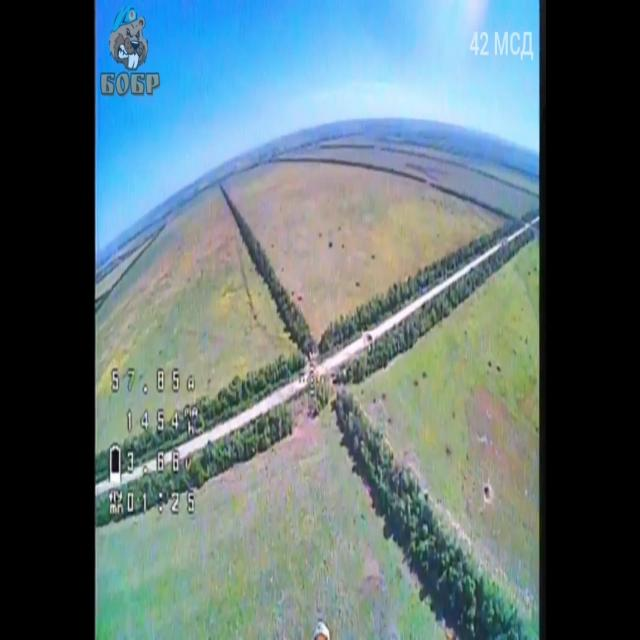cars: (342, 366, 352, 381), (308, 350, 313, 360)
